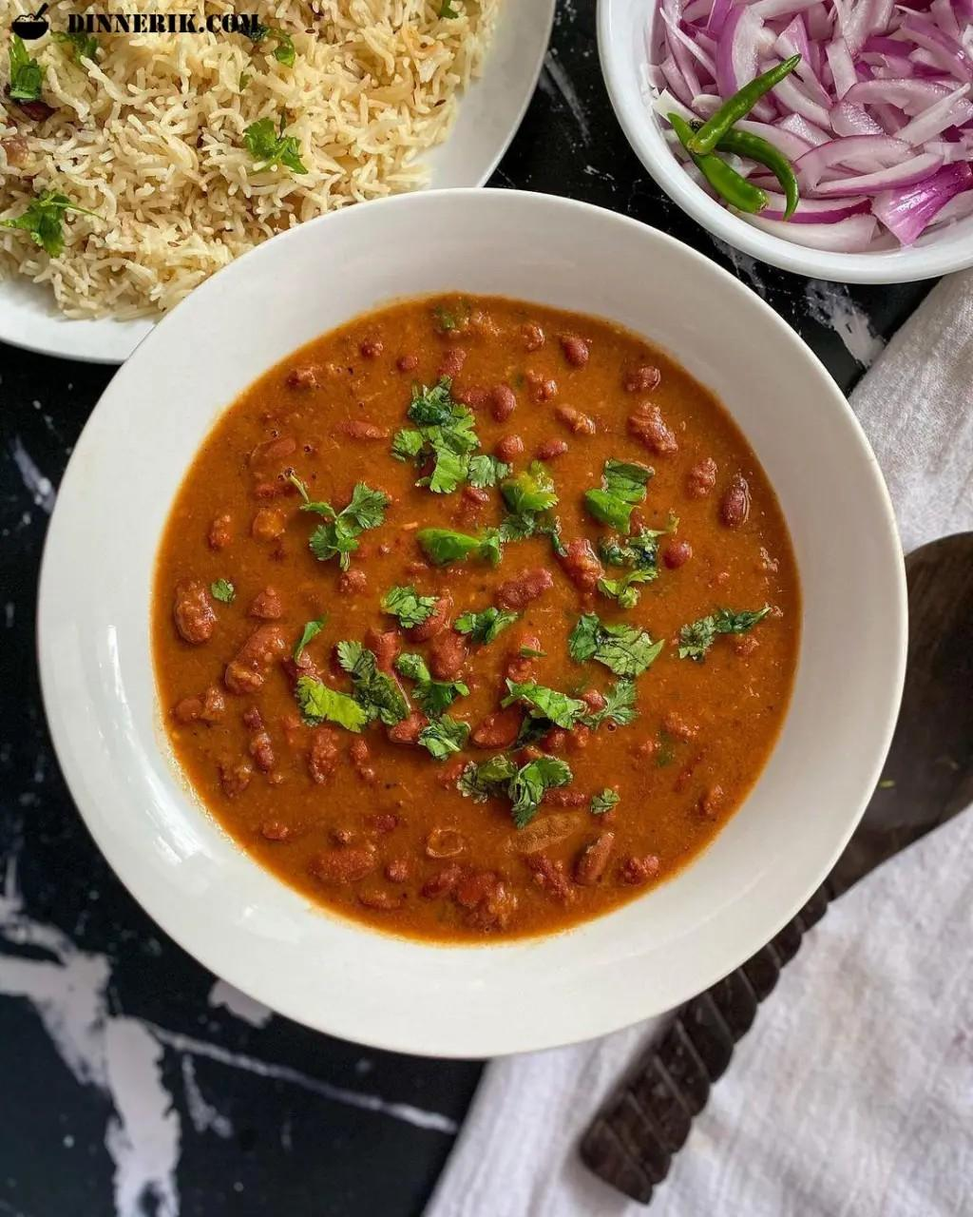RajmaCurry: (158, 299, 790, 931)
